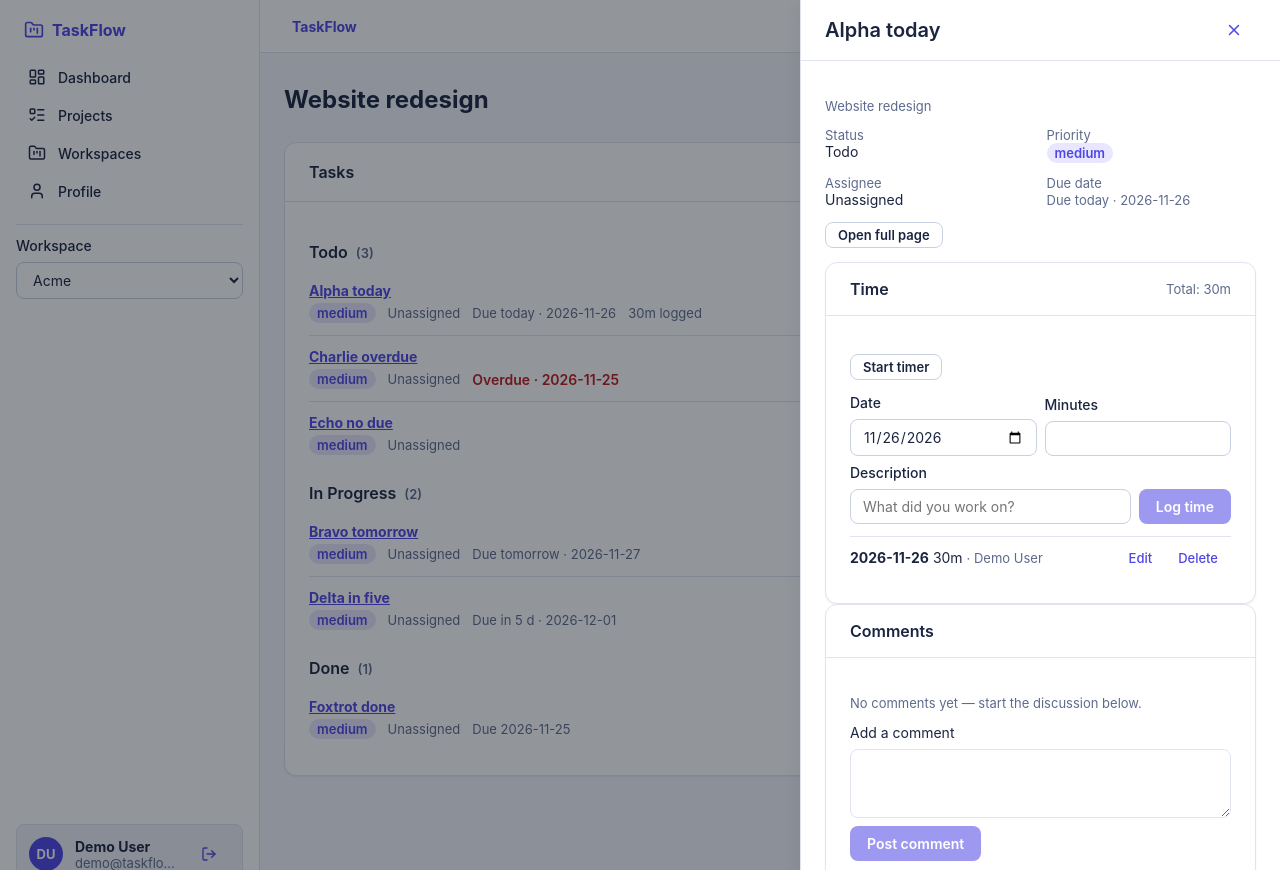
Test: ux-polish @w2 — "Time section works inside the task drawer" › refreshes the task list totals after logging time in the drawer
Expected: the text "30m" is shown, top-left (933, 549), bottom-right (963, 566)
In the number field labelled "Minutes": [1138, 438] box top-left (1044, 421), bottom-right (1231, 456), type "15"
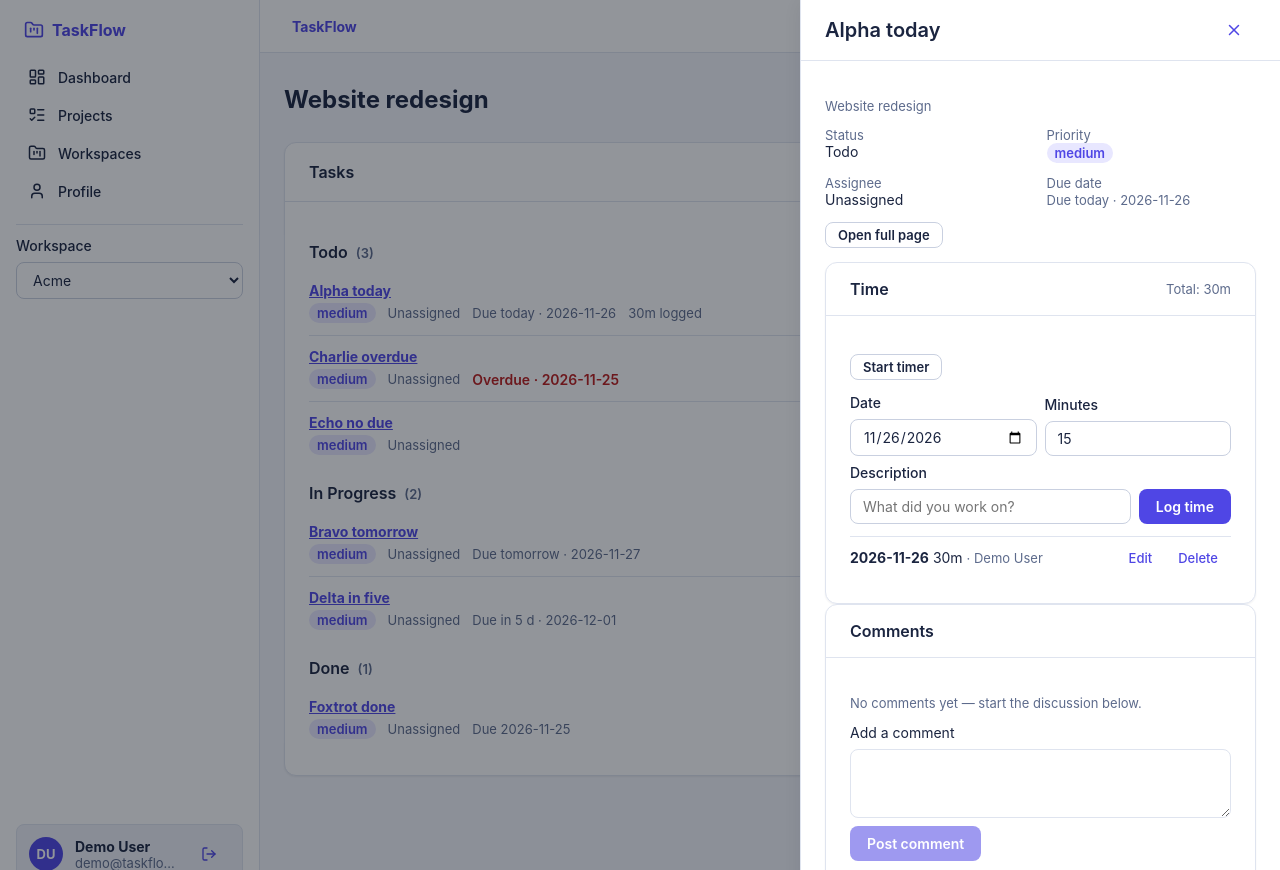
Click the button "Log time": [1185, 506] box top-left (1139, 489), bottom-right (1231, 524)
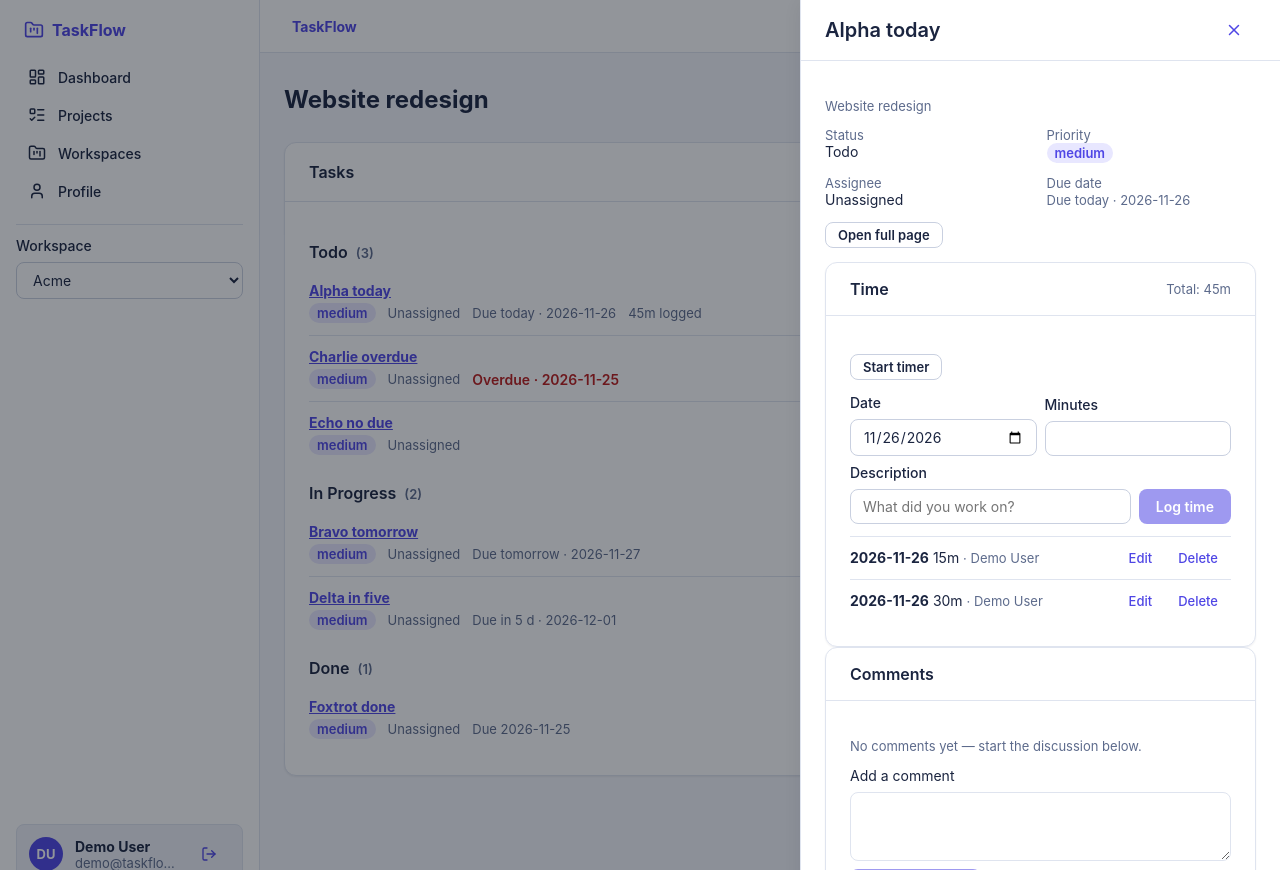
Expected: the text "Total time: 45m" is shown, top-left (864, 159), bottom-right (958, 185)
Result: the text "45m logged" is shown at top-left (628, 305), bottom-right (702, 321)
Result: the text "Total: 45m" is shown at top-left (1166, 281), bottom-right (1231, 297)
